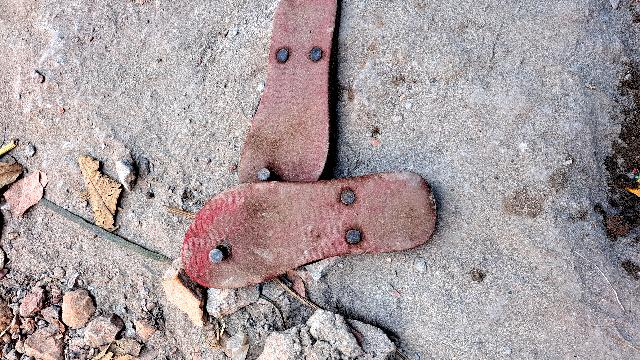sandal: (149, 99, 463, 327), (228, 0, 346, 191)
